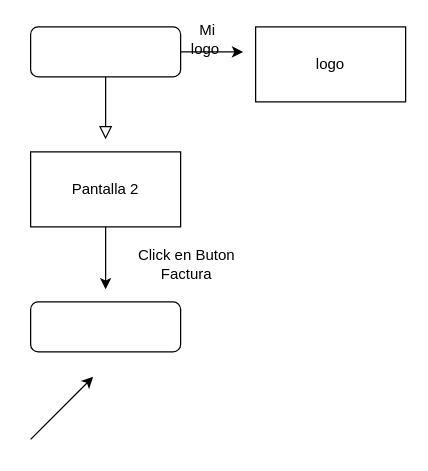
Image size: 428x471. Some labels were removed from this diagram. Each missing label, with the box of its shape:
Main Activity: (29, 26, 181, 77)
Pantalla 3: (29, 301, 181, 352)
